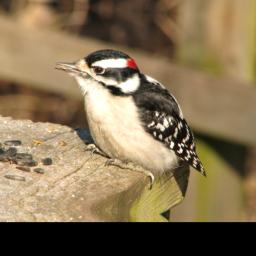Woodpecker: (41, 46, 220, 195)
